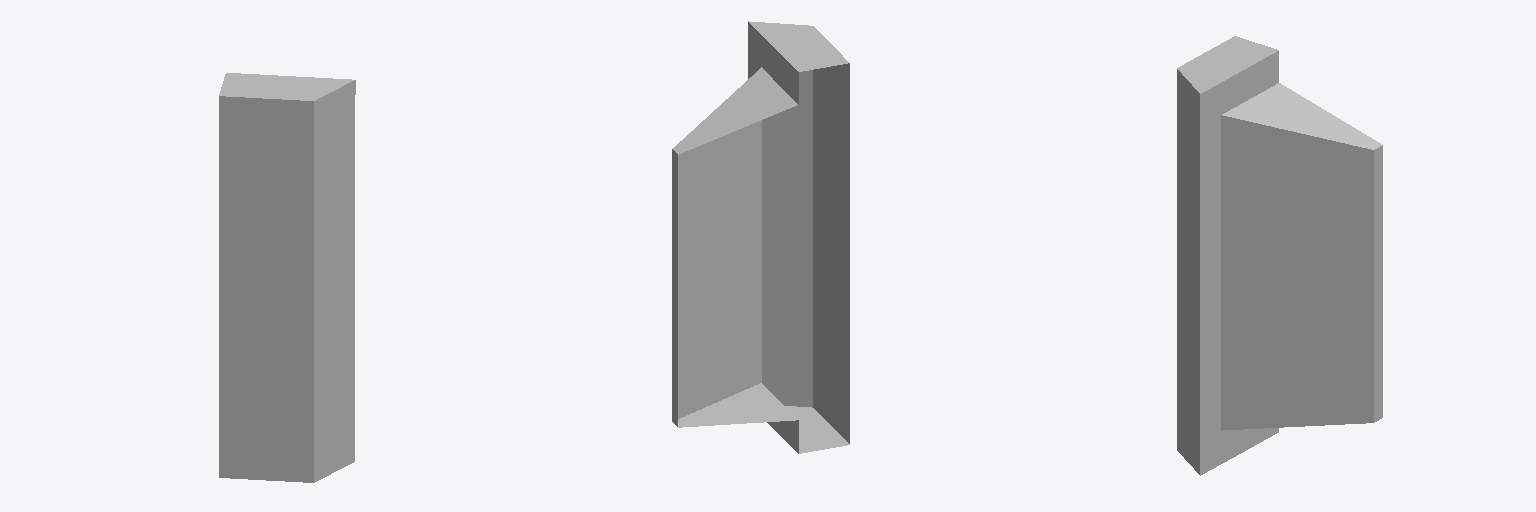
The model's file is Door3.obj.
3 views of the same model, side by side, from view 1: azimuth 30°, elevation 25°; view 2: azimuth 150°, elevation 25°; view 3: azimuth 270°, elevation 25° (orthographic).
Visible parts, largest first — view 1: Plane.003; view 2: Plane.003; view 3: Plane.003.
Part boxes in pixels (left/top/right/bottom): Plane.003: left=219, top=73, right=355, bottom=482; Plane.003: left=672, top=21, right=849, bottom=453; Plane.003: left=1177, top=36, right=1382, bottom=475.
Bounding box in the file's own units: 0.0078 × 0.024 × 0.0117.